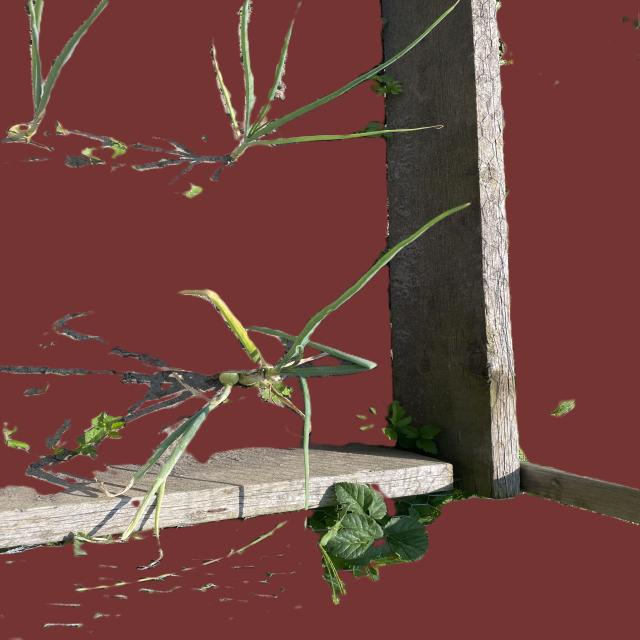Onion: (160, 256, 405, 468), (220, 19, 408, 167), (13, 0, 95, 141)
